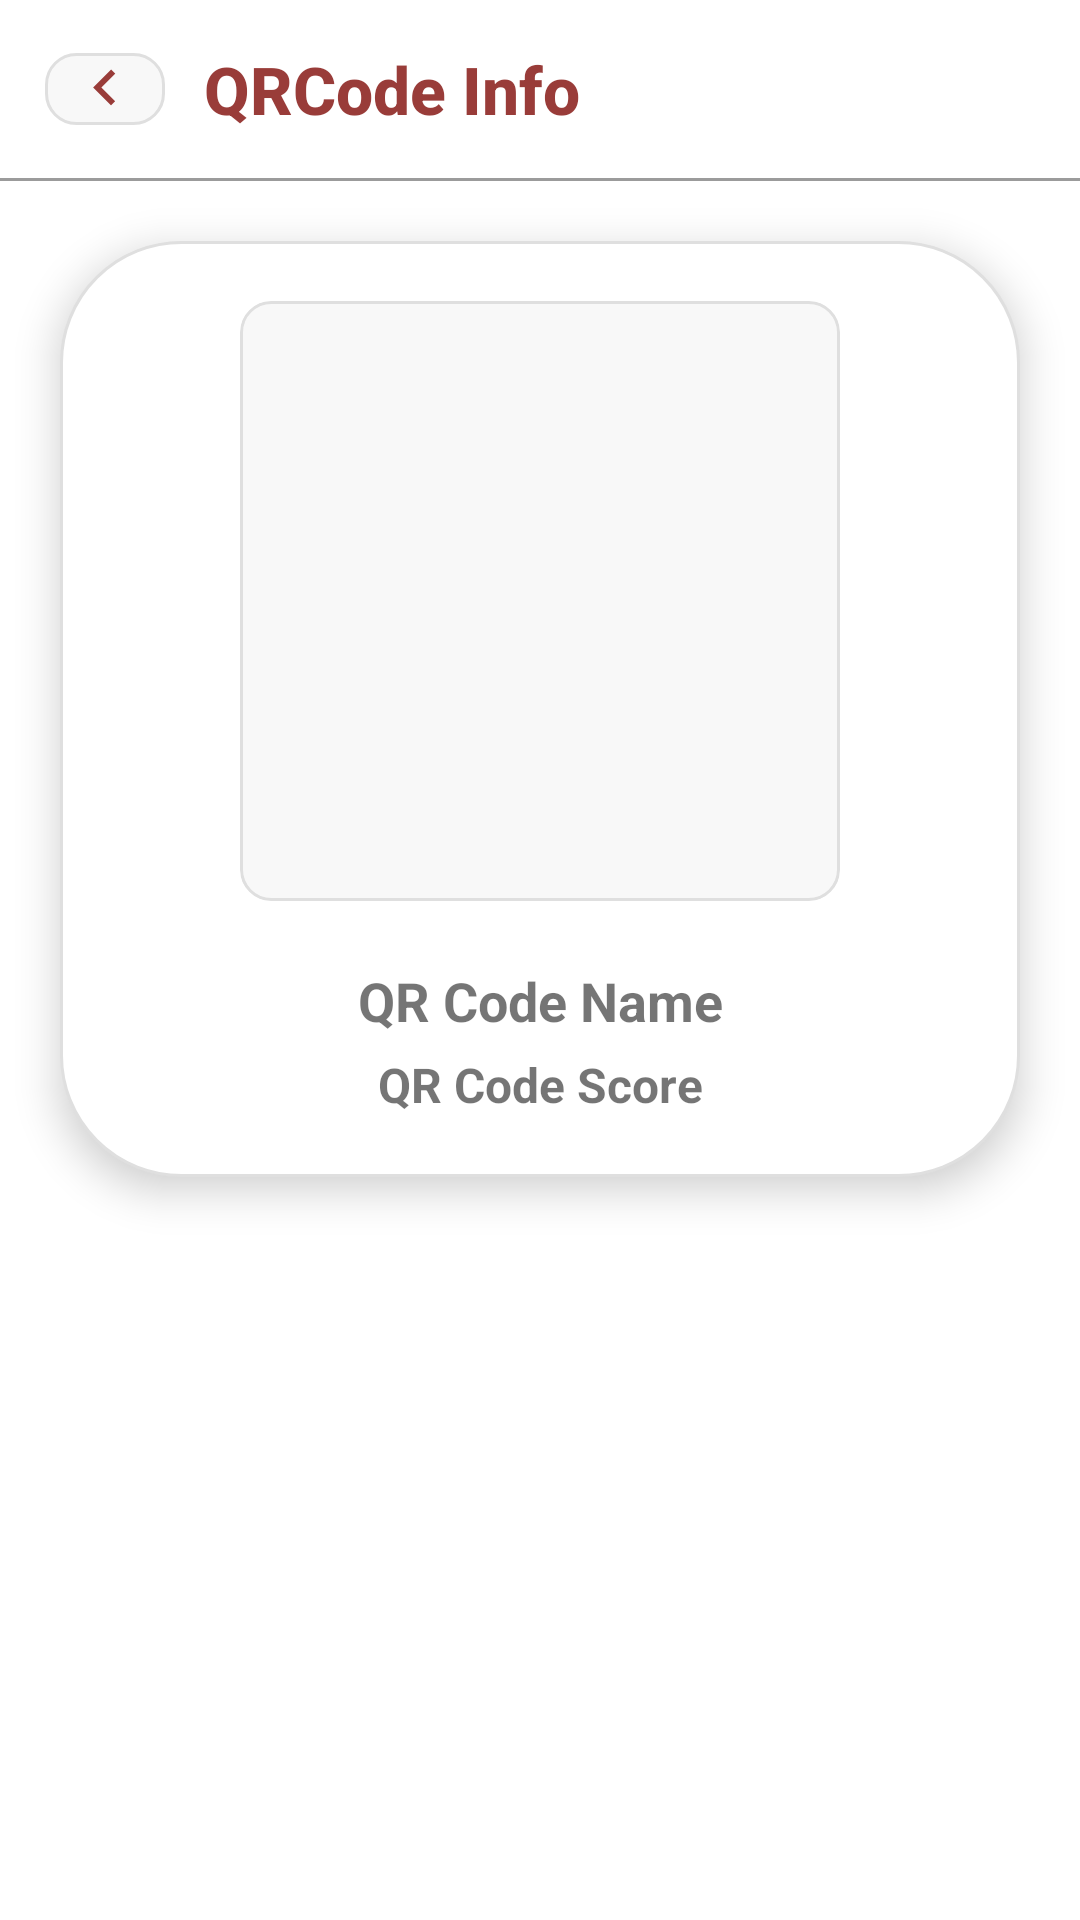

Where to tap for icons on this 1080px x 1920px app screen, as (x=x, y=y):
back: (x=105, y=89)
